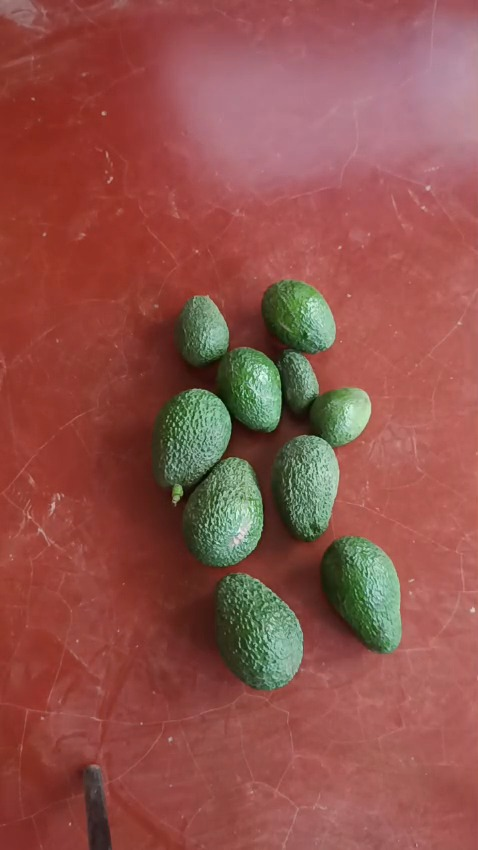Primera: (213, 573, 303, 688), (319, 536, 401, 651), (181, 457, 264, 565), (271, 435, 339, 540)
Segunda: (151, 388, 232, 495), (215, 346, 282, 432), (261, 279, 335, 353)
Tercera: (308, 386, 372, 447), (175, 294, 229, 366), (277, 352, 320, 416)
